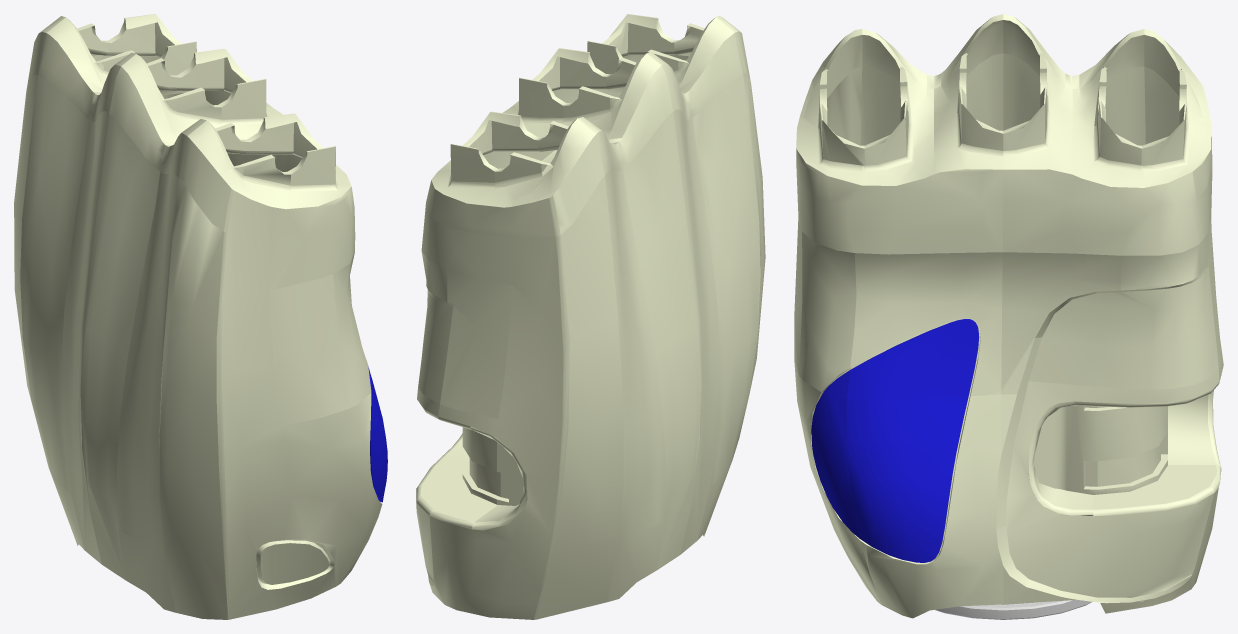
Rendered from right_palm.dae.
The picture shows the model from 3 angles, left to right: view 1: azimuth 30°, elevation 25°; view 2: azimuth 150°, elevation 25°; view 3: azimuth 270°, elevation 25°; orthographic projection.
Parts seen in each view (by area): view 1: ShapeIndexedFaceS_001; view 2: ShapeIndexedFaceS_001; view 3: ShapeIndexedFaceS_001.
Boxes of the visible parts, x1,y1,x2,y2 form: ShapeIndexedFaceS_001: (14, 14, 387, 619); ShapeIndexedFaceS_001: (416, 14, 765, 619); ShapeIndexedFaceS_001: (794, 14, 1223, 619).
Bounding box in the file's own units: 0.0817 × 0.1232 × 0.1664.
